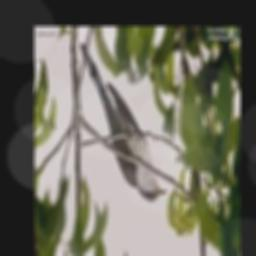Cuckoo: (81, 41, 167, 203)
